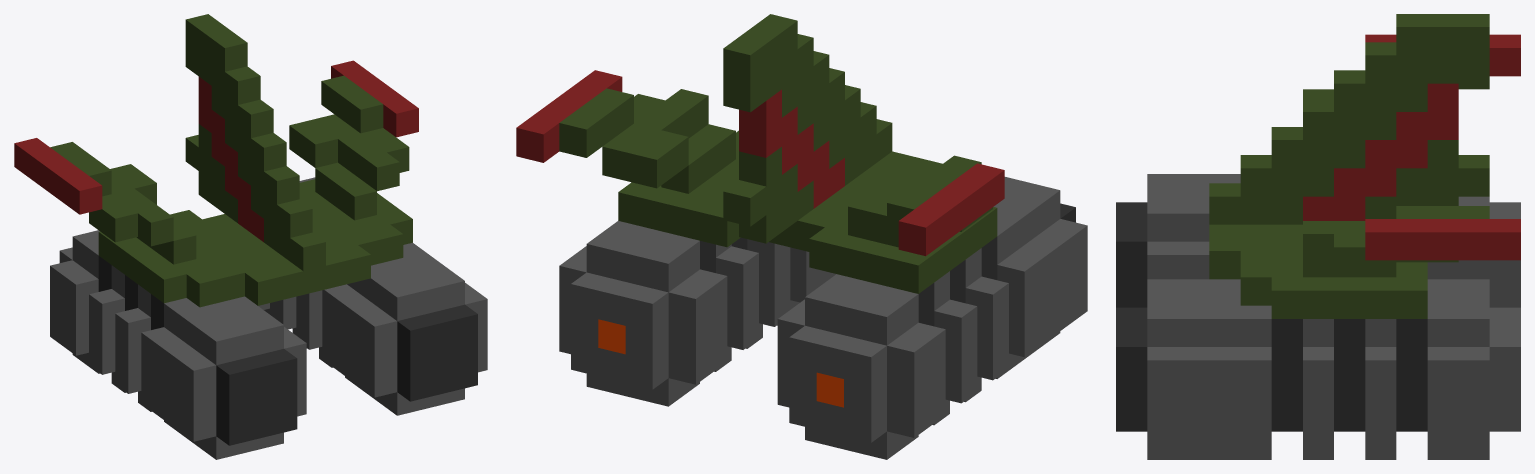
Rendered from Extra-7-GalactixRacer_Engine.obj.
3 renders of one model, left to right at view 1: azimuth 30°, elevation 25°; view 2: azimuth 150°, elevation 25°; view 3: azimuth 270°, elevation 25°, orthographic. The views are drawn at different scales.
Visible parts, largest first — view 1: GalactixRacer_Engine; view 2: GalactixRacer_Engine; view 3: GalactixRacer_Engine.
Boxes of the visible parts, <box> form: GalactixRacer_Engine: <box>14,14,487,459</box>; GalactixRacer_Engine: <box>516,14,1087,459</box>; GalactixRacer_Engine: <box>1116,14,1520,459</box>.
Bounding box in the file's own units: 1.5 × 1.3 × 1.3.
1 material, 1 textured.
